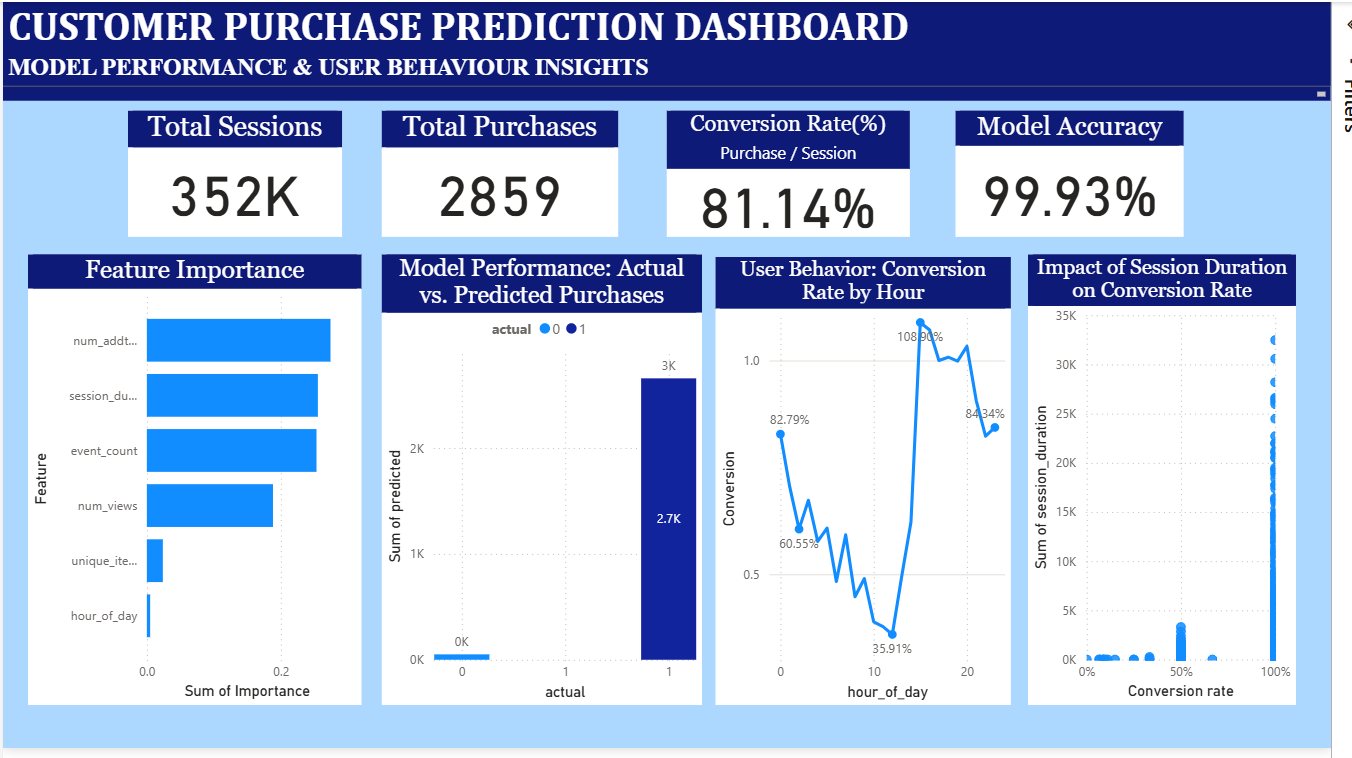

This screenshot's page, from the dashboard's own definition file:
{"tool":"powerbi","page":{"name":"Page 1","canvas":[1280,720],"ordinal":0},"visuals":[{"type":"card","title":"Total Sessions","fields":{"Values":["session_predictions.Total"]},"box":[120.5,105.3,206.5,121.9],"z":0},{"type":"textbox","title":"CUSTOMER PURCHASE PREDICTION DASHBOARD","box":[0,0,1280,95.5],"z":1000},{"type":"card","title":"Total Purchases","fields":{"Values":["session_predictions.Purchases"]},"box":[364.6,105,227.9,121.5],"z":2000},{"type":"card","title":"Conversion Rate(%)","fields":{"Values":["session_predictions.Conversion"]},"box":[640.1,105.3,234.2,121.9],"z":3000},{"type":"card","title":"Model Accuracy","fields":{"Values":["session_predictions.Model_Accuracy"]},"box":[918.6,105.3,220.3,121.9],"z":4000},{"type":"barChart","title":"Feature Importance","fields":{"Category":["feature_importance.Feature"],"Y":["Sum(feature_importance.Importance)"]},"box":[23.9,243.3,321.5,434.5],"z":5000},{"type":"columnChart","title":"Model Performance: Actual vs. Predicted Purchases","fields":{"Category":["session_predictions.actual"],"Y":["Sum(session_predictions.predicted)"],"Series":["session_predictions.actual"]},"box":[365,243.3,308.5,434.5],"z":6000},{"type":"lineChart","title":"User Behavior: Conversion Rate by Hour","fields":{"Category":["session_predictions.hour_of_day"],"Y":["session_predictions.Conversion"]},"box":[686.5,245.5,284.6,432.3],"z":7000},{"type":"scatterChart","title":"Impact of Session Duration on Conversion Rate","fields":{"Category":["session_predictions.session_duration"],"X":["session_predictions.Conversion rate"],"Y":["Sum(session_predictions.session_duration)"]},"box":[988.5,243.3,258.5,434.5],"z":8000}]}

Visuals, with their boxes in screenshot pixels (x1, y1, x2, y2):
"Total Sessions" card: Rect(125, 109, 339, 236)
"CUSTOMER PURCHASE PREDICTION DASHBOARD" textbox: Rect(0, 0, 1327, 99)
"Total Purchases" card: Rect(378, 109, 614, 235)
"Conversion Rate(%)" card: Rect(664, 109, 907, 236)
"Model Accuracy" card: Rect(952, 109, 1181, 236)
"Feature Importance" barChart: Rect(25, 252, 358, 703)
"Model Performance: Actual vs. Predicted Purchases" columnChart: Rect(378, 252, 698, 703)
"User Behavior: Conversion Rate by Hour" lineChart: Rect(712, 255, 1007, 703)
"Impact of Session Duration on Conversion Rate" scatterChart: Rect(1025, 252, 1293, 703)
